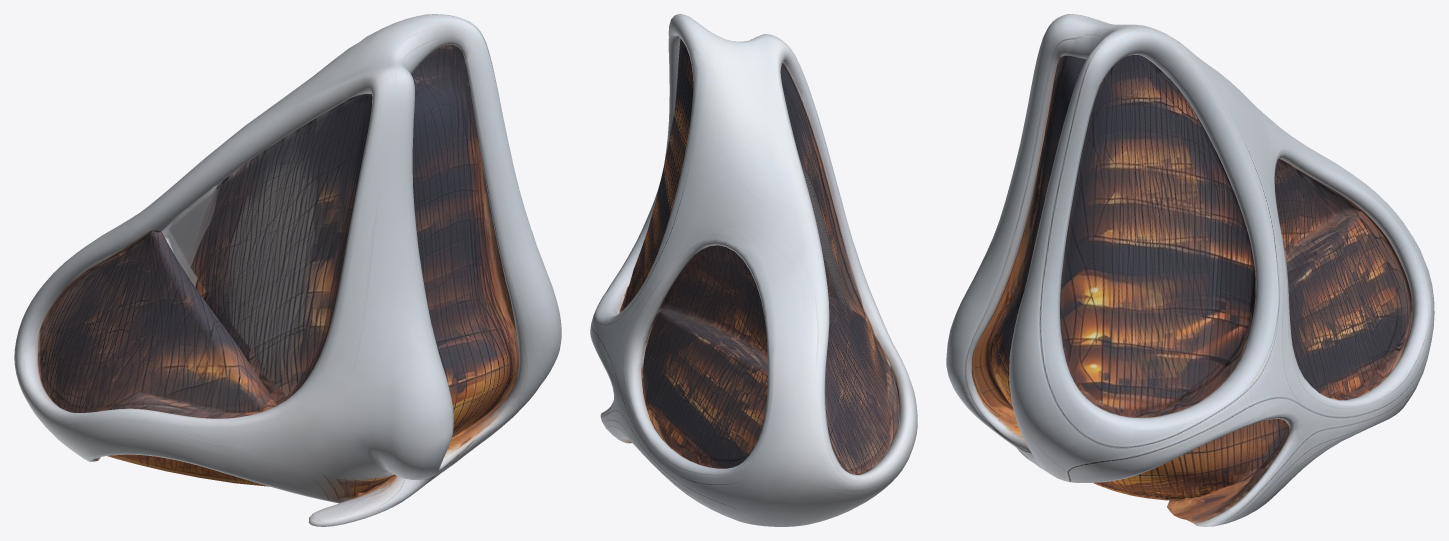
File: town-pod-house.lite.glb
3 renders of one model, left to right at view 1: azimuth 30°, elevation 25°; view 2: azimuth 150°, elevation 25°; view 3: azimuth 270°, elevation 25°, orthographic. The views are drawn at different scales.
Parts seen in each view (by area): view 1: tripo_node_09a0343f-a991-4096-965d-fede1187e149; view 2: tripo_node_09a0343f-a991-4096-965d-fede1187e149; view 3: tripo_node_09a0343f-a991-4096-965d-fede1187e149.
Boxes of the visible parts, bbox=[...] form: tripo_node_09a0343f-a991-4096-965d-fede1187e149: bbox=[14, 14, 561, 526]; tripo_node_09a0343f-a991-4096-965d-fede1187e149: bbox=[590, 14, 917, 526]; tripo_node_09a0343f-a991-4096-965d-fede1187e149: bbox=[946, 14, 1434, 526].
Bounding box in the file's own units: 0.9761 × 0.9995 × 0.9507.
Materials: 1 (1 with a texture image).
